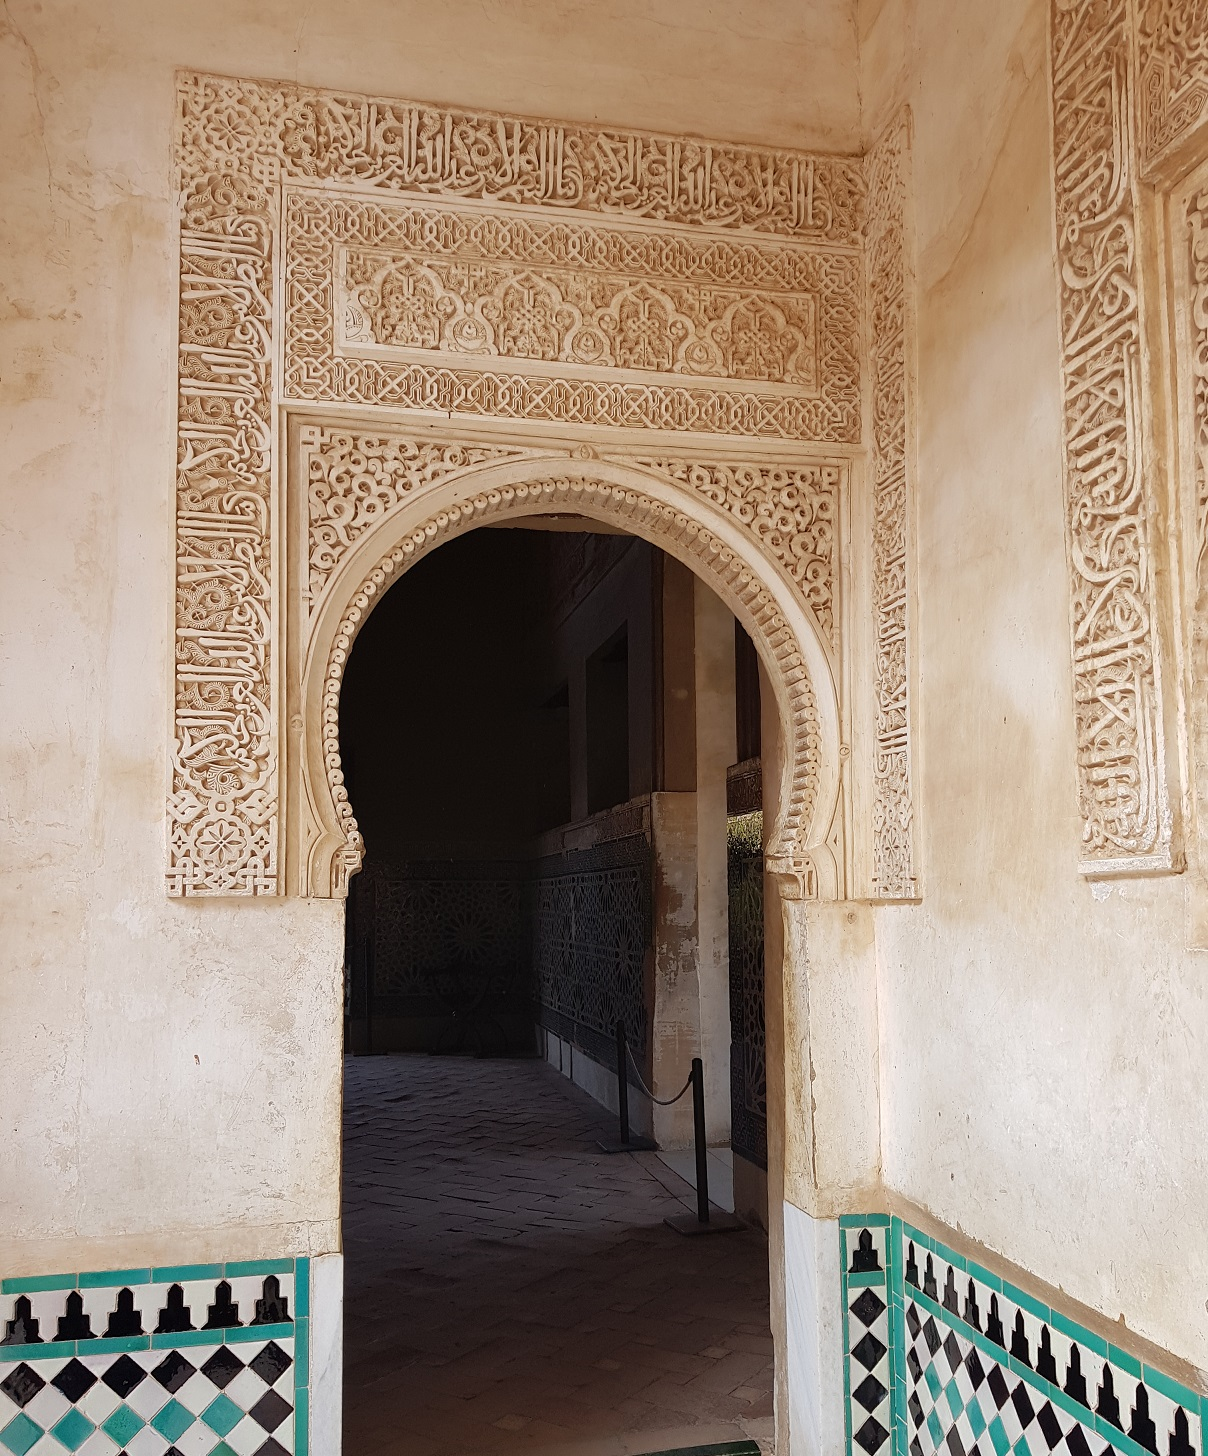arco-herradura: (320, 460, 823, 930)
